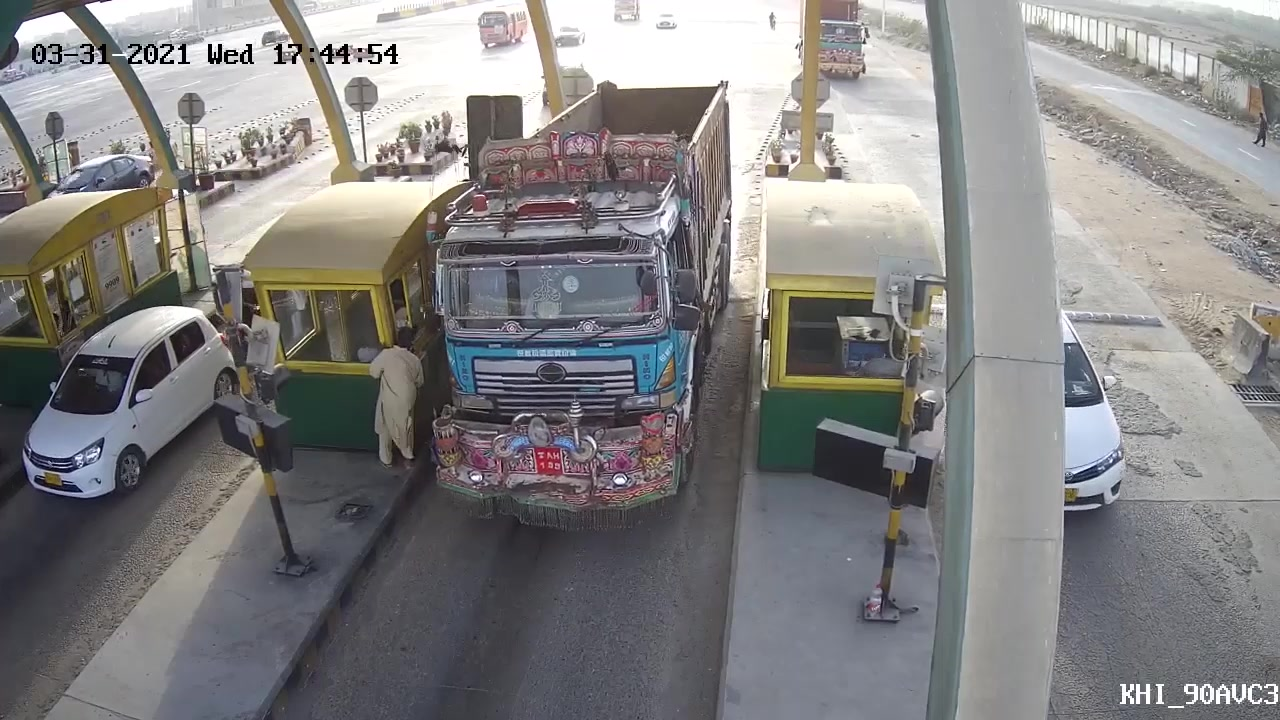F5: (417, 78, 740, 529)
